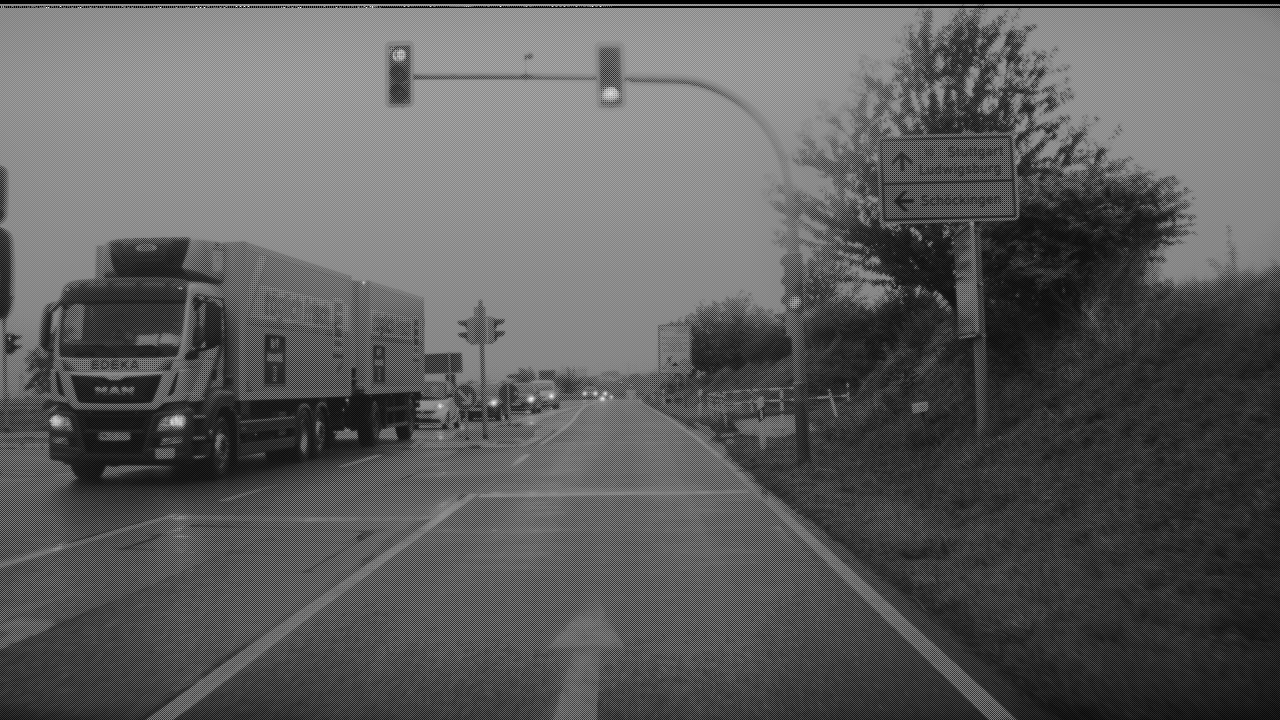pole: (776, 147, 812, 455), (479, 337, 487, 428)
